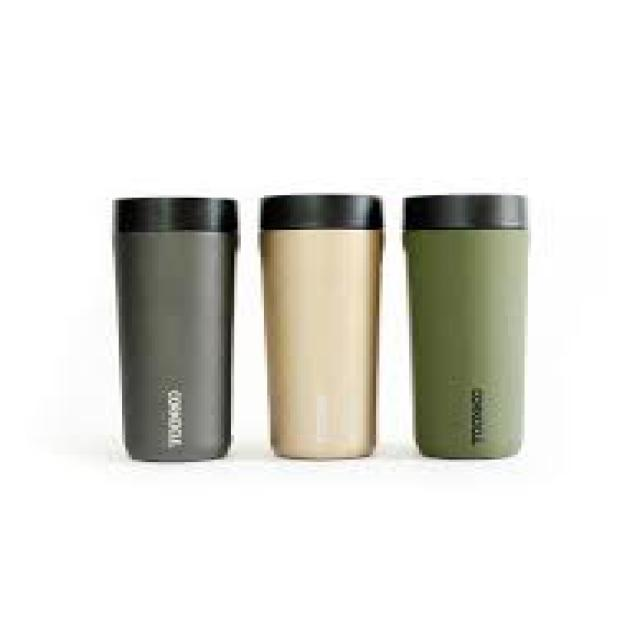bottle: (403, 195, 535, 458), (113, 195, 243, 462), (260, 194, 384, 458)
